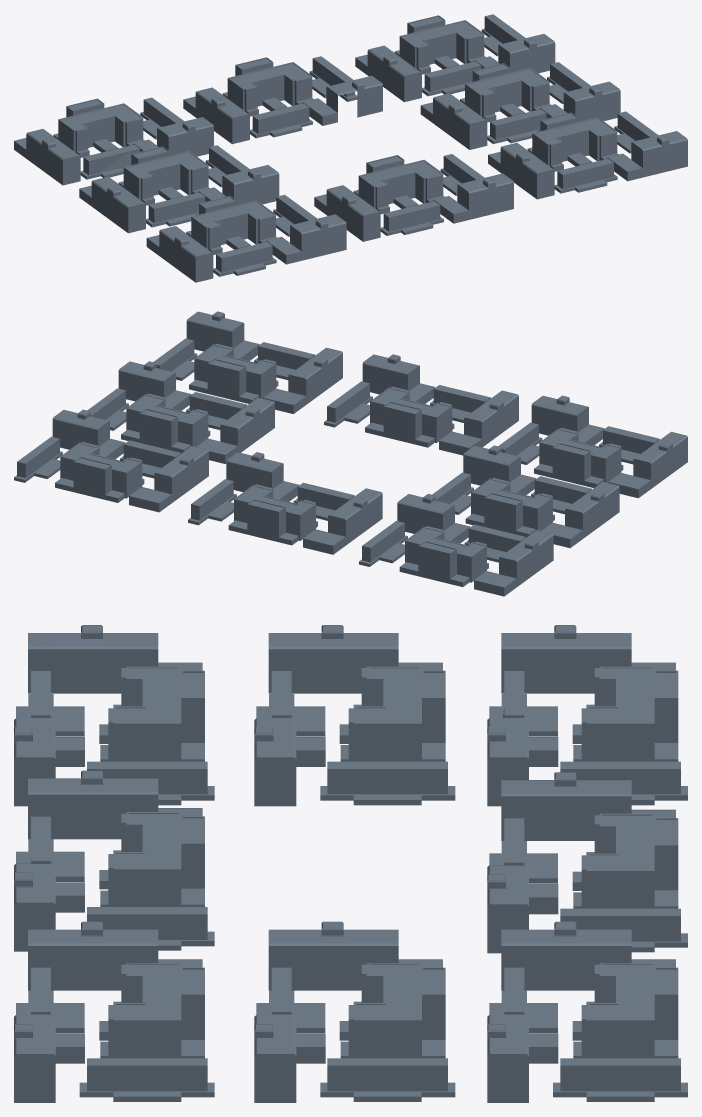
The model's file is roomin.glb.
3 renders of one model, top to bottom at view 1: azimuth 30°, elevation 25°; view 2: azimuth 150°, elevation 25°; view 3: azimuth 270°, elevation 25°, orthographic. The views are drawn at different scales.
Visible parts, largest first — view 1: Building; view 2: Building; view 3: Building.
Boxes of the visible parts, x1,y1,x2,y2 form: Building: [14, 14, 687, 282]; Building: [14, 311, 687, 596]; Building: [14, 625, 687, 1102].
Bounding box in the file's own units: 128 × 8.01 × 85.79.
